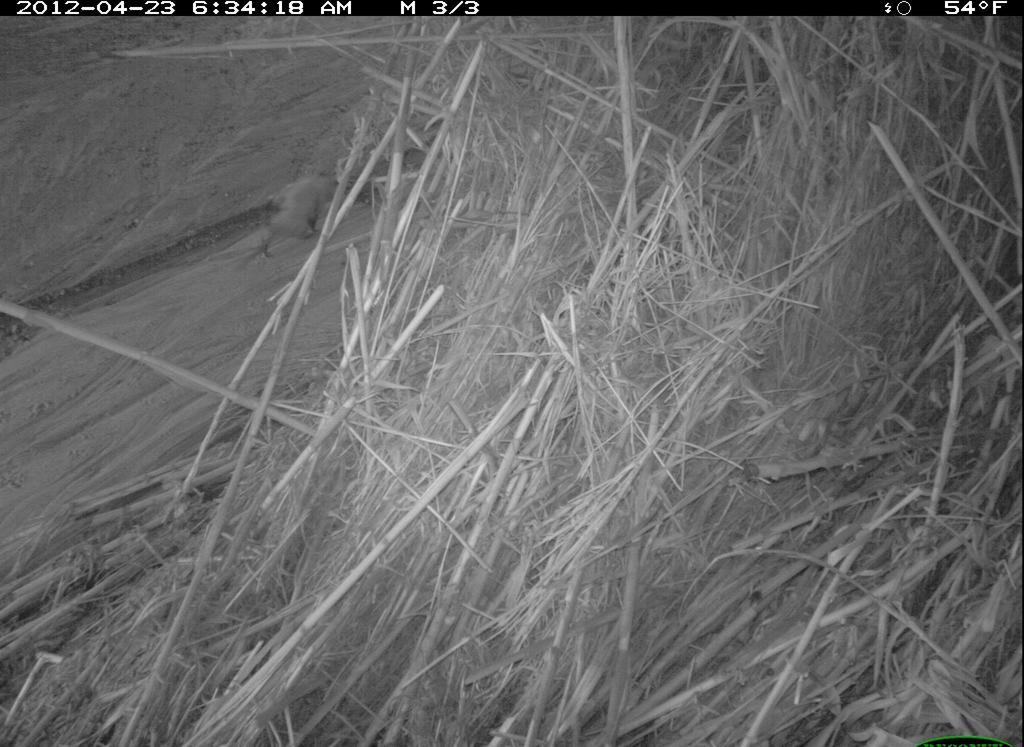opossum: (244, 168, 349, 268)
